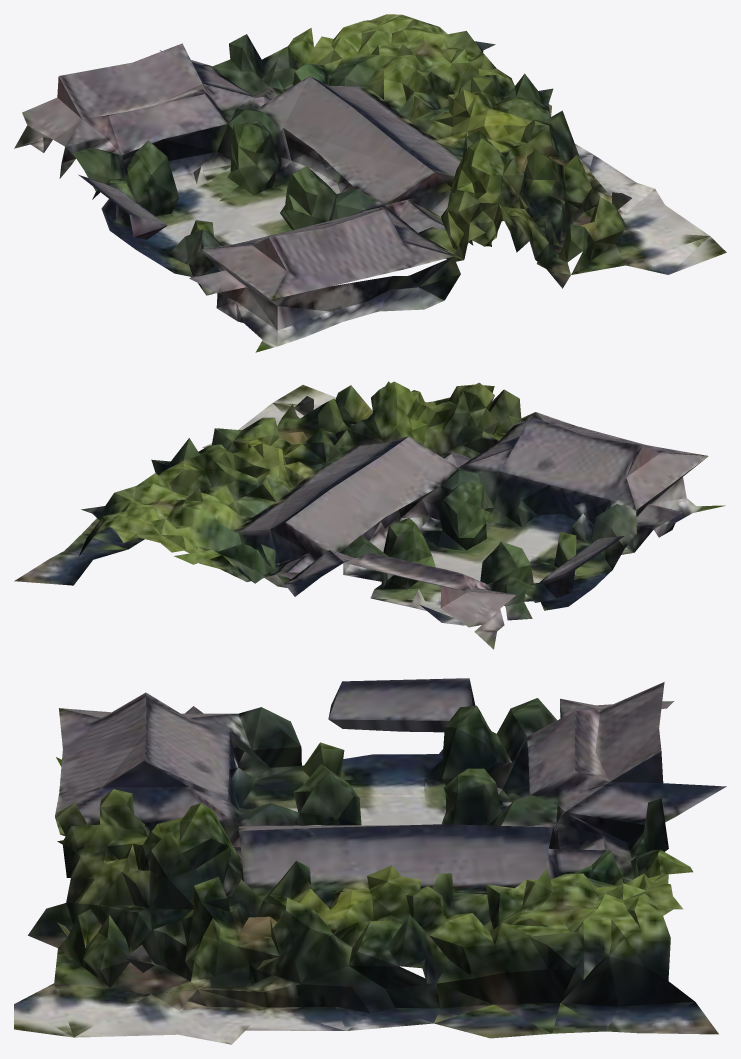
File: Tile_+004_+006_L17_00.glb
3 views of the same model, one above another, from view 1: azimuth 30°, elevation 25°; view 2: azimuth 150°, elevation 25°; view 3: azimuth 270°, elevation 25° (orthographic). The views are drawn at different scales.
Size of the model in its own units: 58.94 by 12.71 by 60.89.
Materials: 1 (1 with a texture image).
